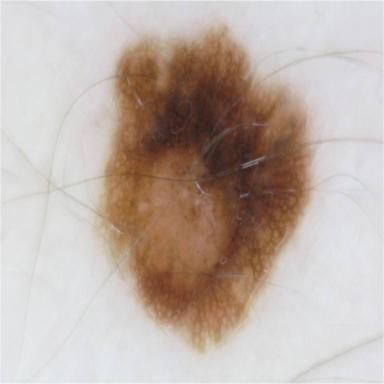nevus: (98, 27, 311, 350)
